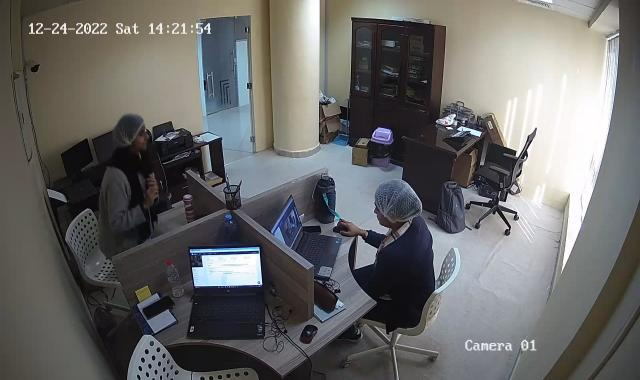hairnet: (372, 181, 423, 231), (112, 114, 149, 152)
